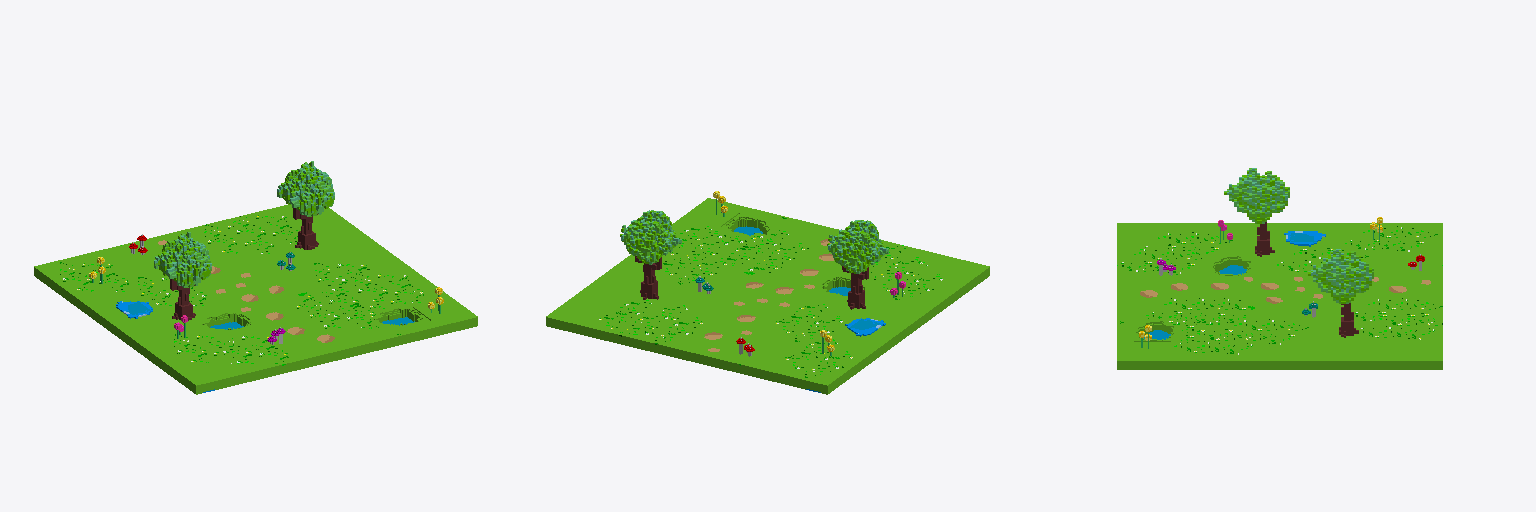
The picture shows the model from 3 angles: view 1: azimuth 30°, elevation 25°; view 2: azimuth 150°, elevation 25°; view 3: azimuth 270°, elevation 25°; orthographic projection.
Parts seen in each view (by area): view 1: Model; view 2: Model; view 3: Model.
Part boxes in pixels (x1,y1,x2,y2): Model: (34, 161, 477, 394); Model: (546, 191, 989, 394); Model: (1117, 168, 1442, 369).
Size of the model in its own units: 32 by 9.75 by 32.
1 materials, 1 textured.